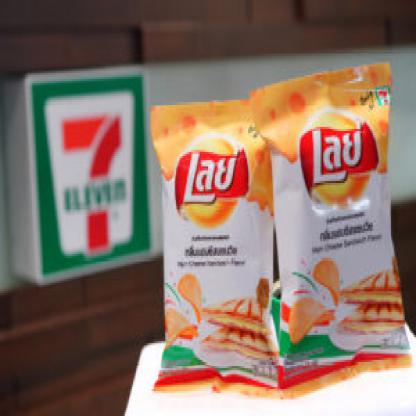potatochip: (248, 63, 414, 402), (147, 98, 283, 395)
